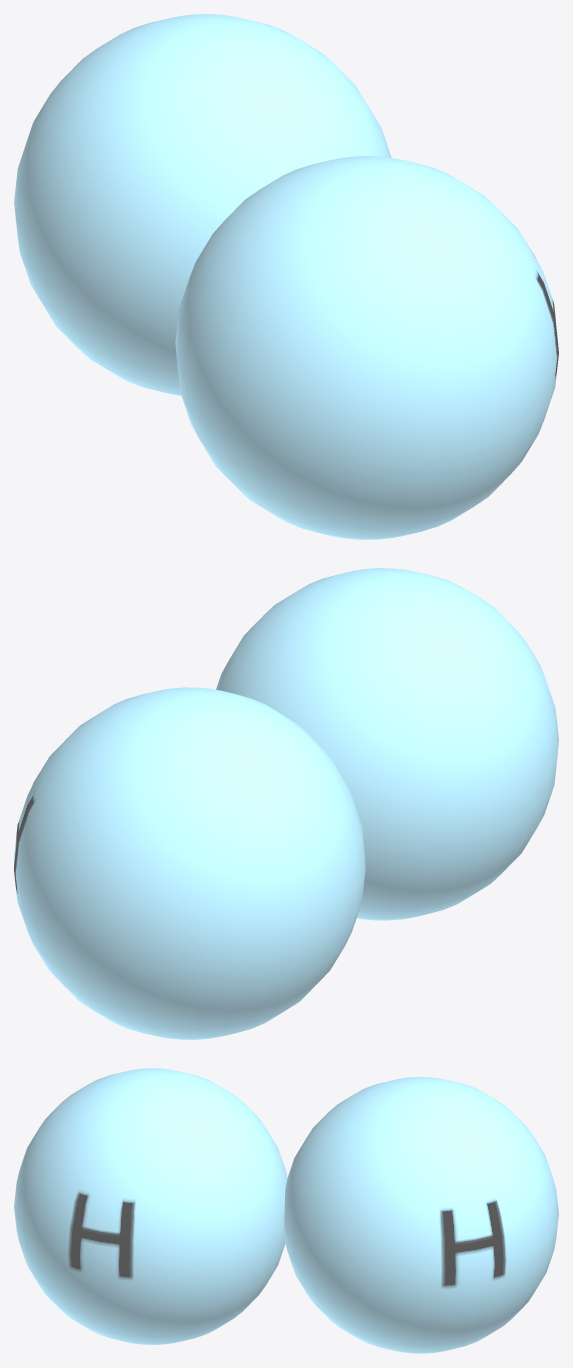
The picture shows the model from 3 angles, top to bottom: view 1: azimuth 30°, elevation 25°; view 2: azimuth 150°, elevation 25°; view 3: azimuth 270°, elevation 25°; orthographic projection. The views are drawn at different scales.
Visible parts, largest first — view 1: 球体.002, 球体.001; view 2: 球体.001, 球体.002; view 3: 球体.001, 球体.002.
Boxes of the visible parts, x1,y1,x2,y2 form: 球体.002: (175, 156, 558, 539); 球体.001: (14, 14, 391, 395); 球体.001: (14, 687, 365, 1039); 球体.002: (216, 568, 558, 920); 球体.001: (284, 1077, 558, 1353); 球体.002: (14, 1068, 287, 1344).
Bounding box in the file's own units: 0.3309 × 0.3083 × 0.6061.
2 materials, 2 textured.
